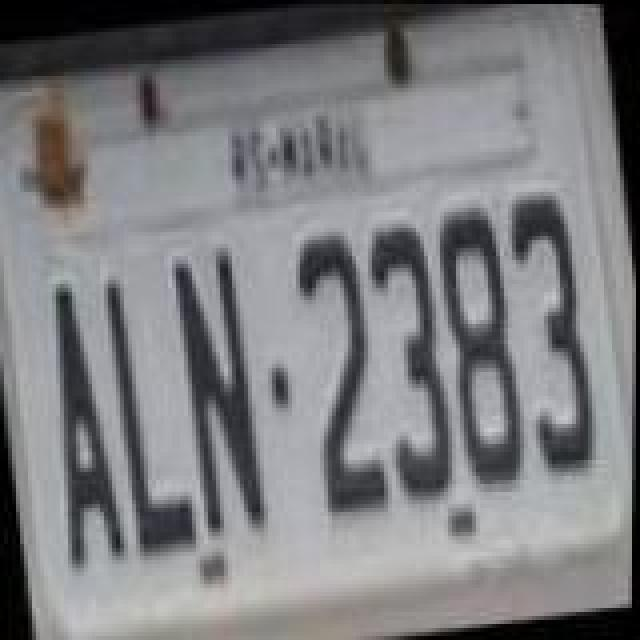2: (286, 222, 398, 518)
3: (492, 184, 604, 480), (356, 206, 464, 502)
8: (424, 194, 536, 494)
A: (28, 272, 132, 568)
L: (98, 264, 206, 564)
N: (162, 240, 274, 540)
